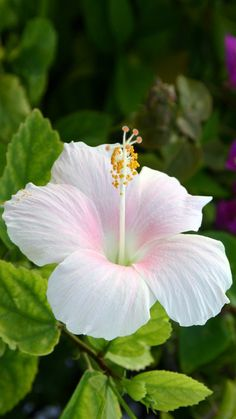Hibiscus: (10, 129, 234, 348)
